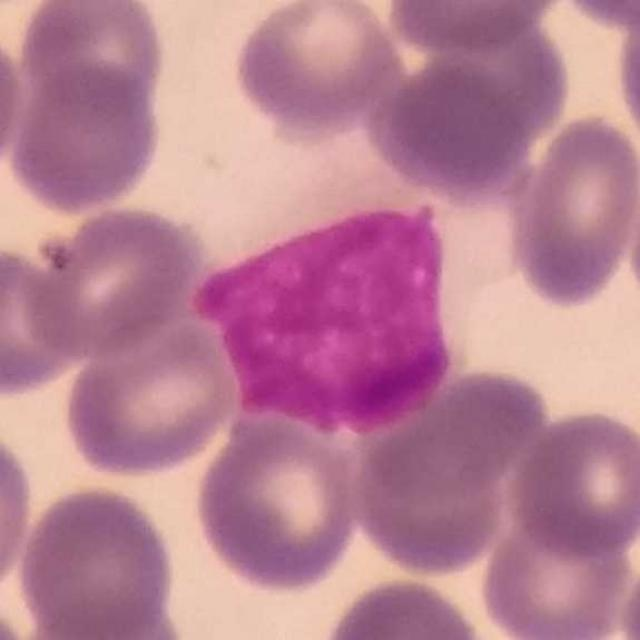Monocyte: (190, 165, 512, 429)
RBC: (345, 362, 558, 573), (365, 11, 571, 199), (188, 394, 367, 598), (59, 310, 244, 481), (17, 200, 207, 361), (503, 109, 640, 312), (12, 482, 182, 640), (3, 61, 166, 216), (230, 0, 406, 140), (481, 508, 640, 640), (504, 405, 640, 559), (11, 0, 170, 122), (0, 238, 91, 402), (317, 573, 499, 640), (382, 0, 566, 58), (11, 594, 195, 639), (0, 420, 37, 604), (611, 0, 640, 167), (550, 0, 640, 35)
